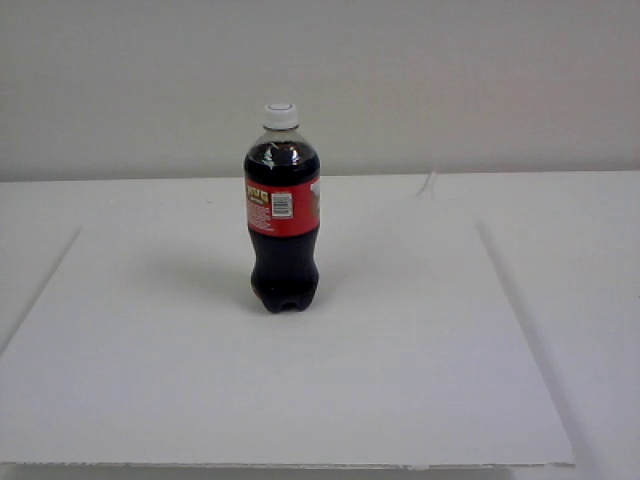botolplastik: (245, 104, 322, 312)
